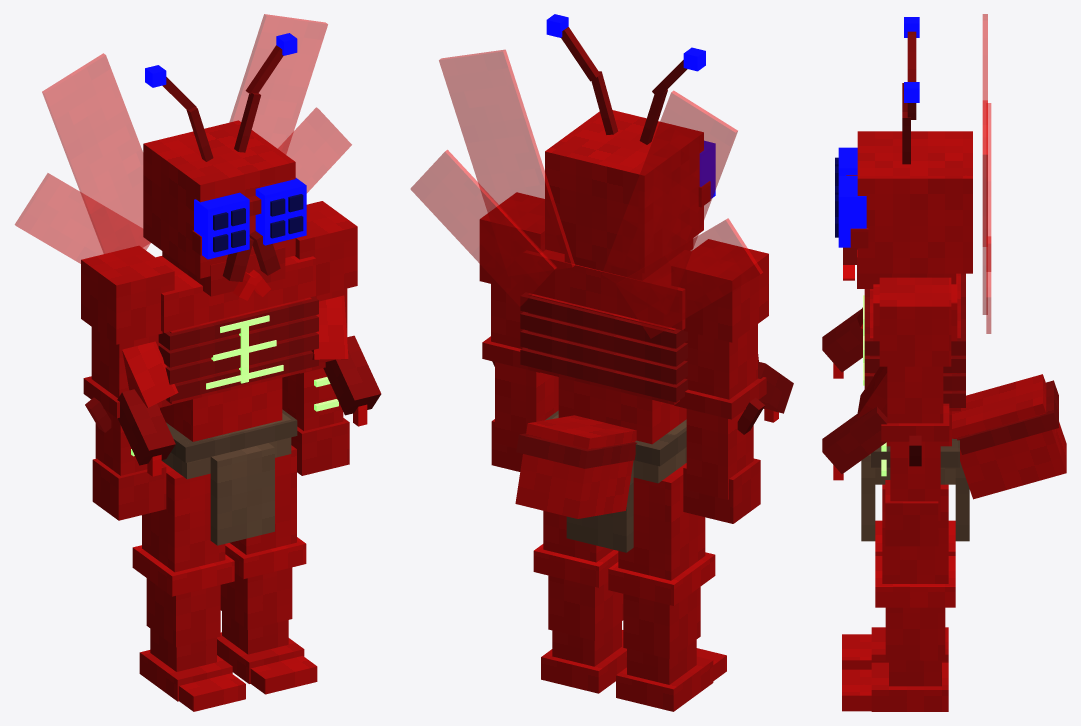
The model's file is insectoid_s2_evo1.glb.
The picture shows the model from 3 angles, left to right: view 1: azimuth 30°, elevation 25°; view 2: azimuth 150°, elevation 25°; view 3: azimuth 270°, elevation 25°; orthographic projection. The views are drawn at different scales.
Parts seen in each view (by area): view 1: Torso, Head, LegR, ArmR, LegL, ArmL; view 2: Torso, Head, ArmR, LegR, ArmL, LegL; view 3: Torso, Head, ArmL, LegL, LegR.
Part boxes in pixels (left/top/right/bottom): Torso: left=15, top=14, right=381, bottom=545; Head: left=143, top=33, right=306, bottom=300; LegR: left=132, top=461, right=245, bottom=711; ArmR: left=81, top=245, right=174, bottom=520; LegL: left=217, top=445, right=317, bottom=694; ArmL: left=282, top=201, right=357, bottom=475; Torso: left=410, top=49, right=793, bottom=552; Head: left=545, top=14, right=715, bottom=280; ArmR: left=671, top=239, right=768, bottom=523; LegR: left=608, top=463, right=726, bottom=711; ArmL: left=479, top=192, right=558, bottom=471; LegL: left=533, top=511, right=626, bottom=693; Torso: left=822, top=14, right=1066, bottom=541; Head: left=835, top=17, right=972, bottom=288; ArmL: left=879, top=277, right=951, bottom=546; LegL: left=842, top=484, right=955, bottom=711; LegR: left=842, top=520, right=955, bottom=669.
Bounding box in the file's own units: 1.12 × 1.98 × 0.699.
Materials: 22 (22 with a texture image).
